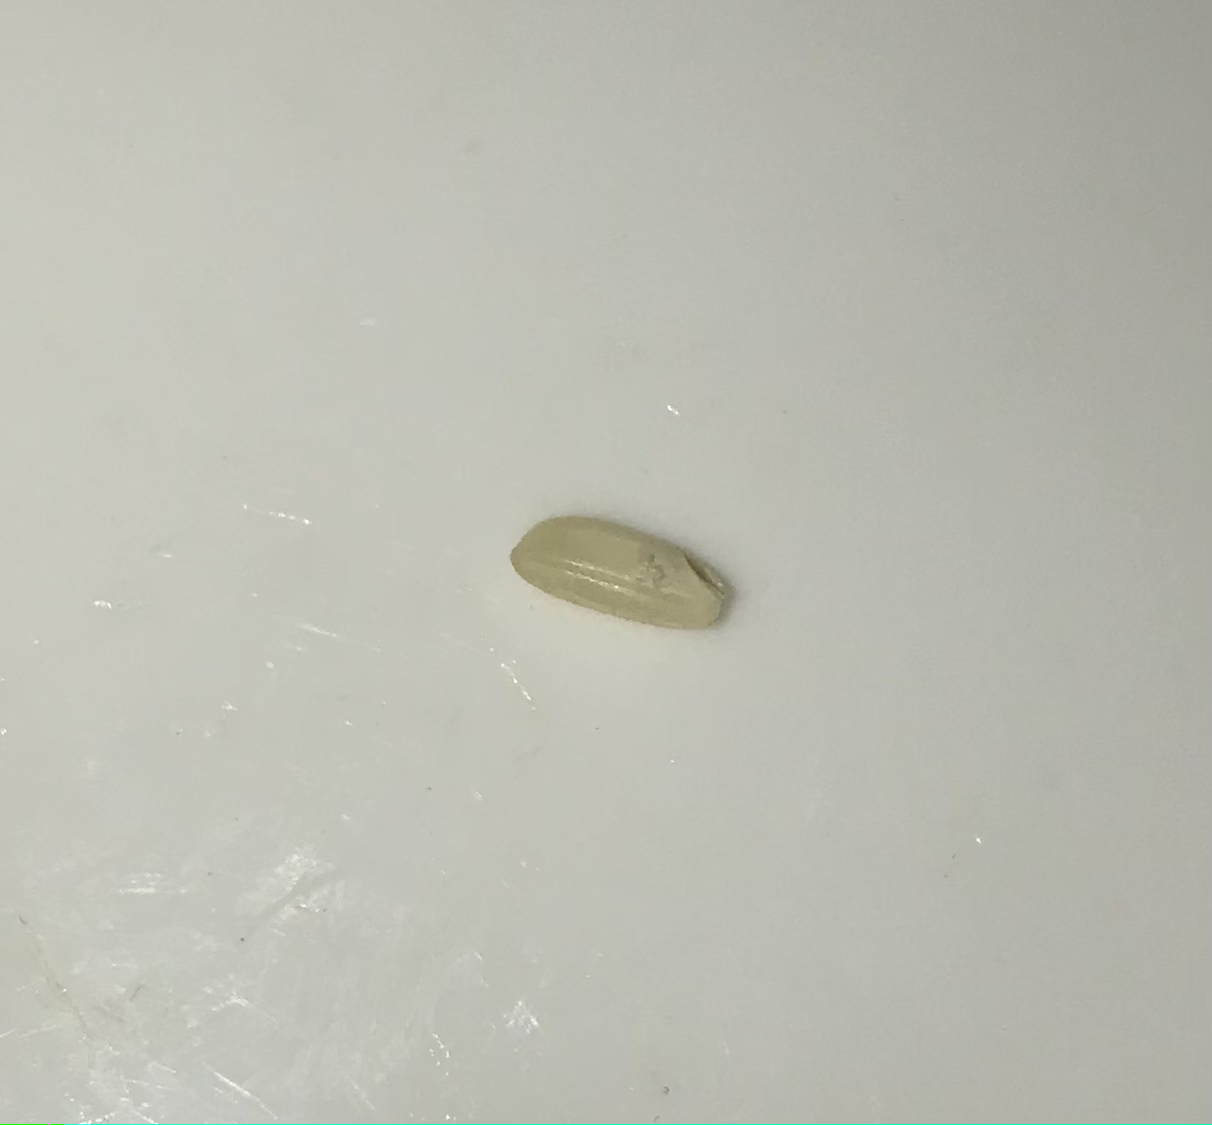Gao Lut Trang: (500, 498, 738, 649)
